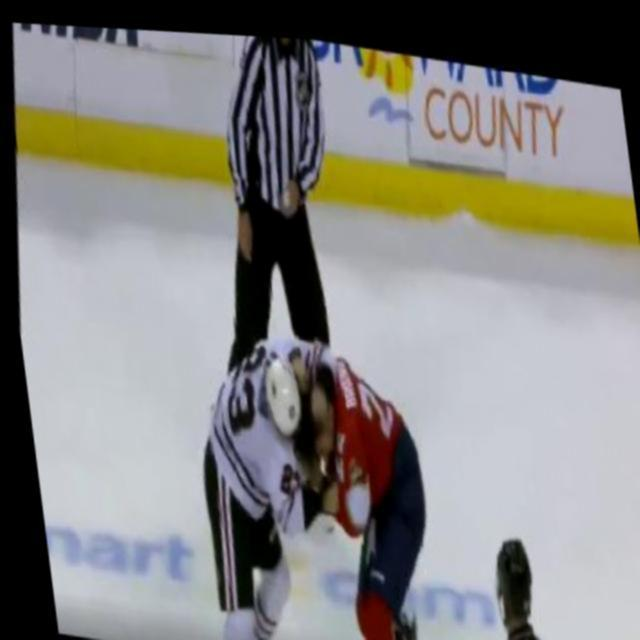fight: (158, 292, 458, 640)
